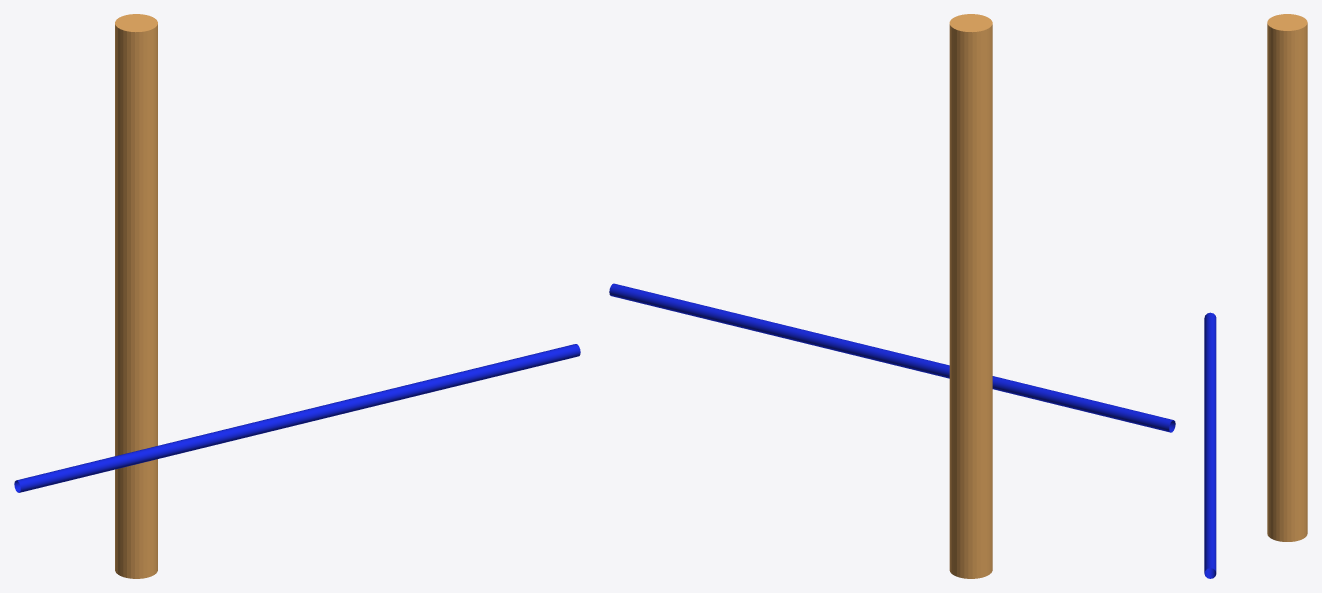
The model's file is TwoHalfHitchState1.dae.
3 renders of one model, left to right at view 1: azimuth 30°, elevation 25°; view 2: azimuth 150°, elevation 25°; view 3: azimuth 270°, elevation 25°, orthographic. The views are drawn at different scales.
Visible parts, largest first — view 1: Cylinder, NurbsCurve.001; view 2: Cylinder, NurbsCurve.001; view 3: Cylinder, NurbsCurve.001.
Part boxes in pixels (x1=…): Cylinder: x1=115, y1=14, x2=157, y2=578; NurbsCurve.001: x1=14, y1=344, x2=580, y2=492; Cylinder: x1=949, y1=14, x2=992, y2=578; NurbsCurve.001: x1=609, y1=283, x2=1175, y2=432; Cylinder: x1=1267, y1=14, x2=1307, y2=541; NurbsCurve.001: x1=1204, y1=312, x2=1216, y2=578.
Size of the model in its own units: 1.5 by 0.2561 by 1.4.
